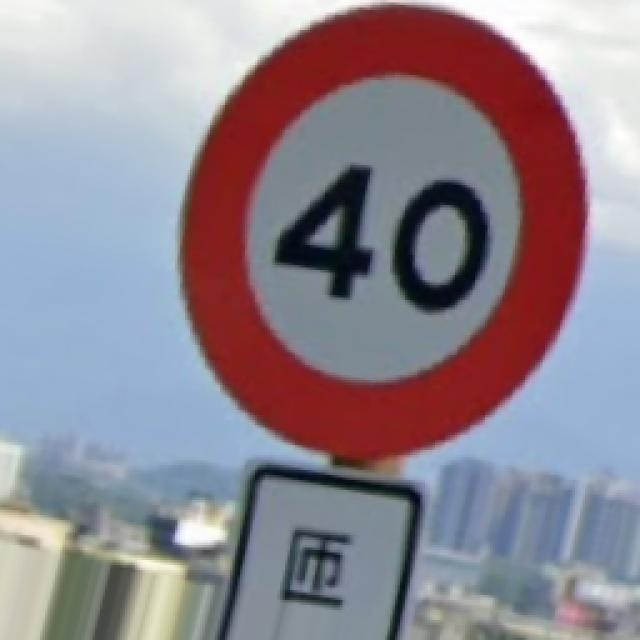Speed Limit -40-: (180, 8, 585, 452)
